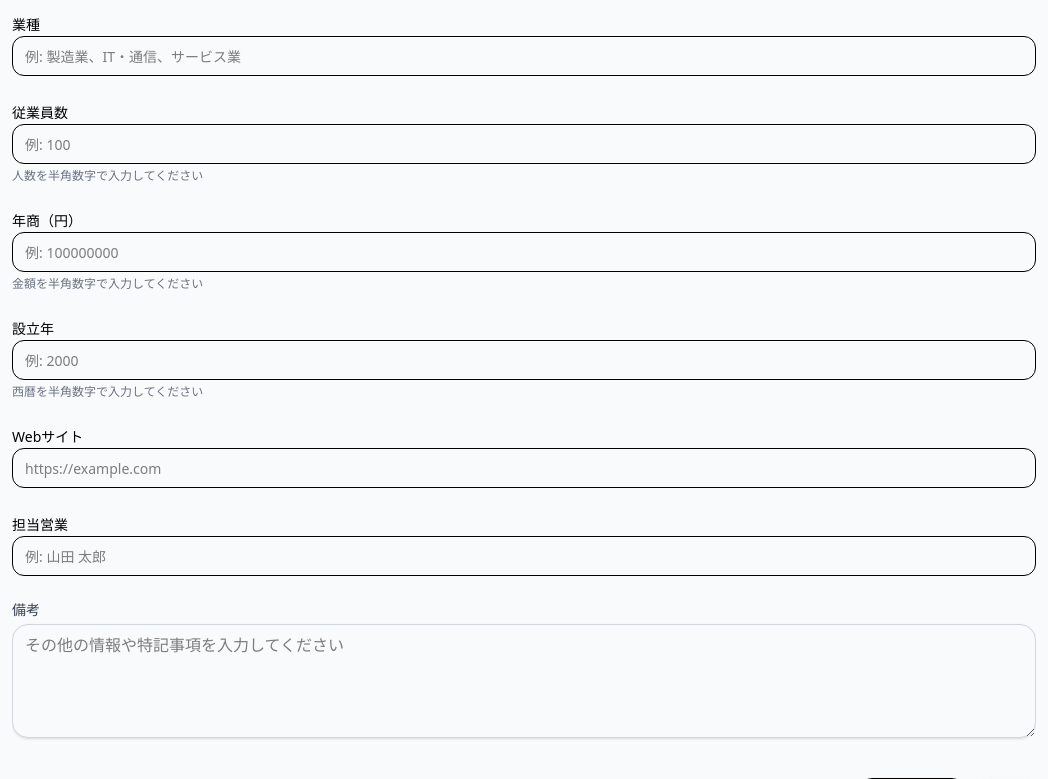
Test case: CustomerForm › バリデーション › 従業員数に負の数を入力すると、エラーが表示される
Step 1. Type "-100" into the number field labelled "従業員数" → [524, 144], box [12, 124, 1036, 164]
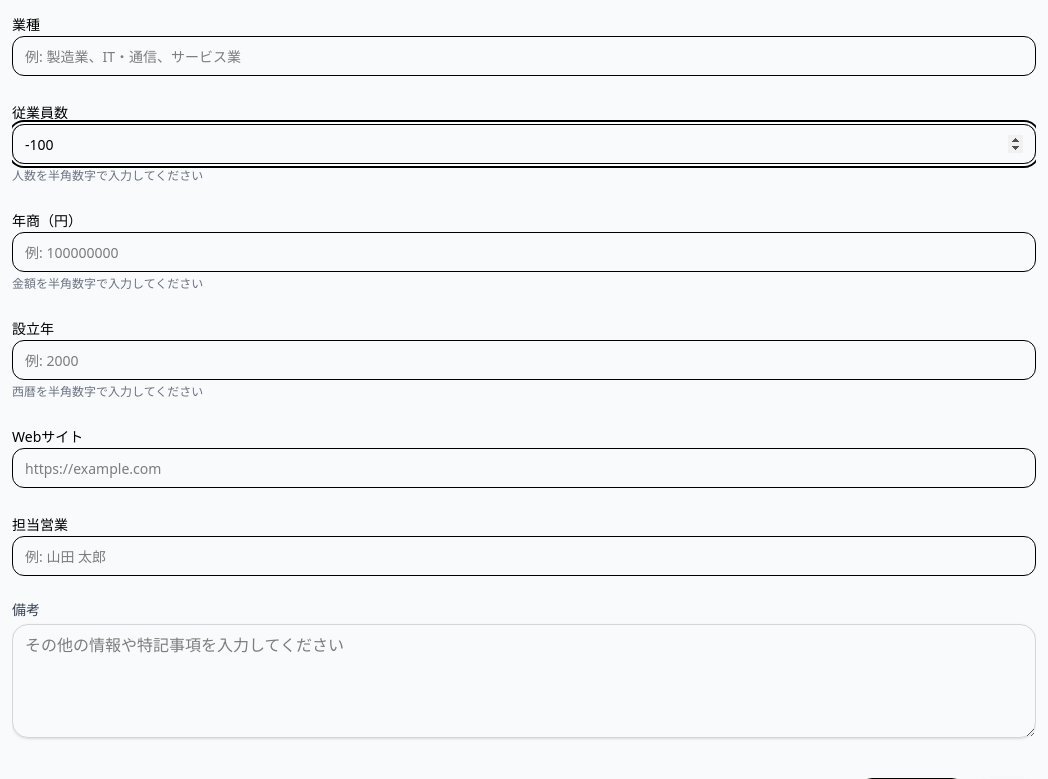
Step 2. Press Tab
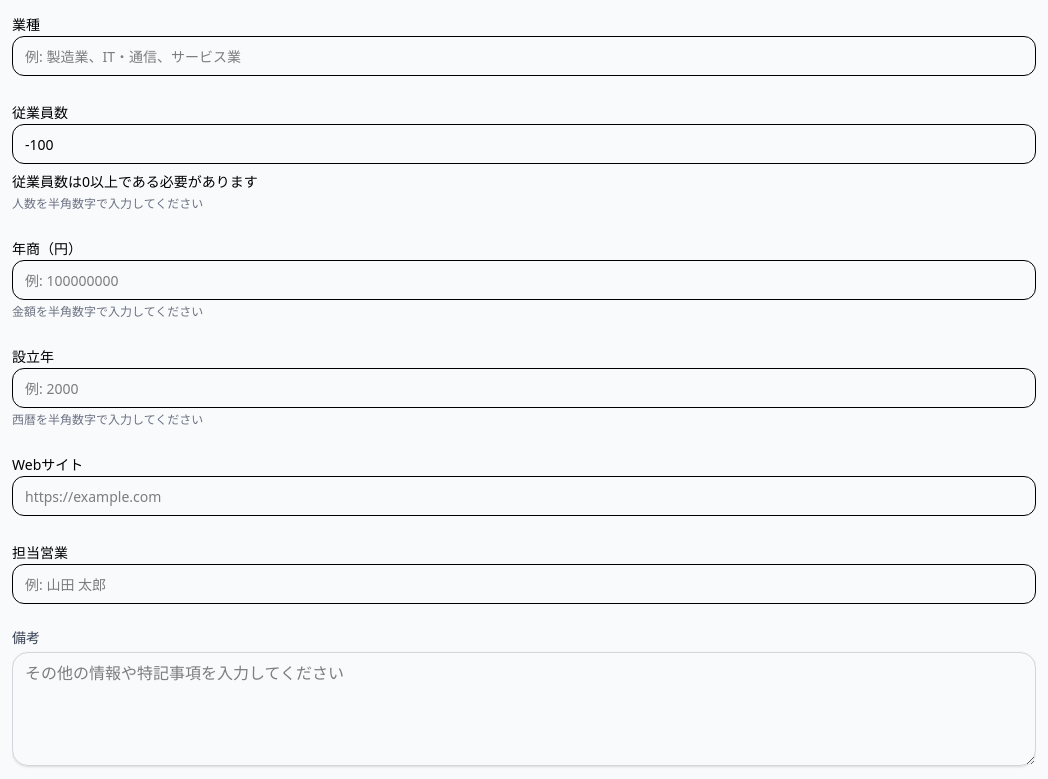
Check: the text "従業員数は0以上である必要があります" is shown, box [12, 172, 258, 191]
